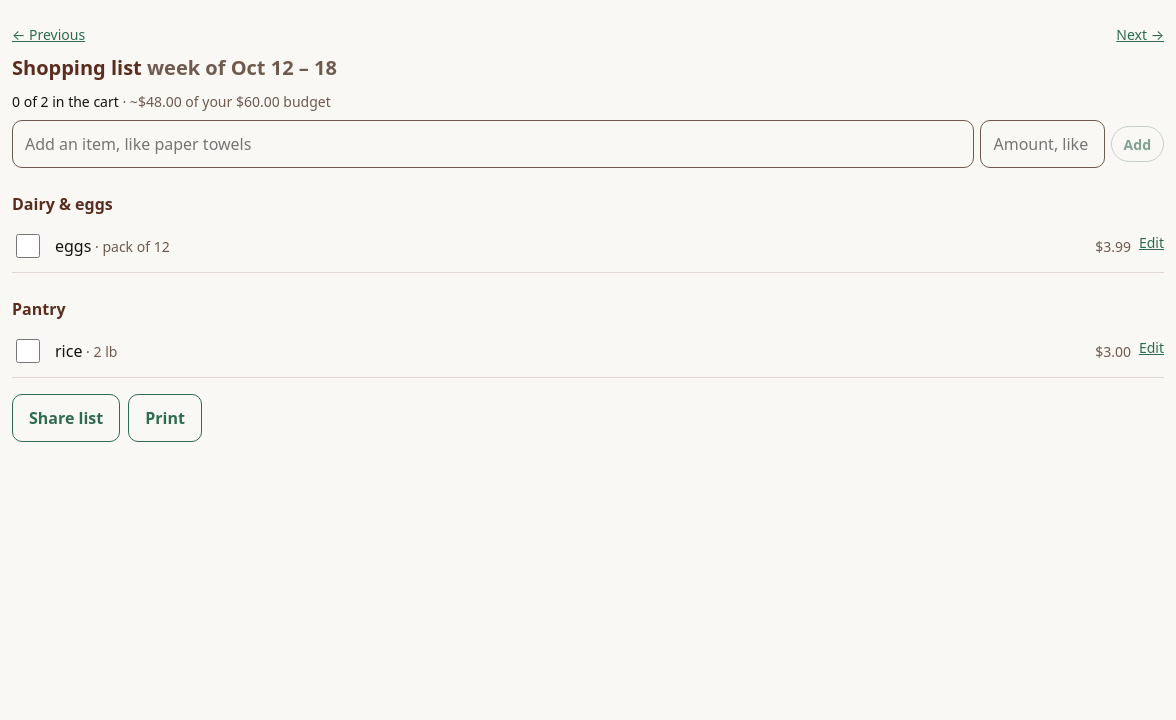
Test: ListPage › adds a place of the user’s own to buy something at
This screenshot has width=1176, height=720.
Check: the list named "Dairy & eggs" is shown, box [12,220,1164,273]
Click the button with aria-label "Edit eggs" at (1151, 242), box [1139,220,1164,264]
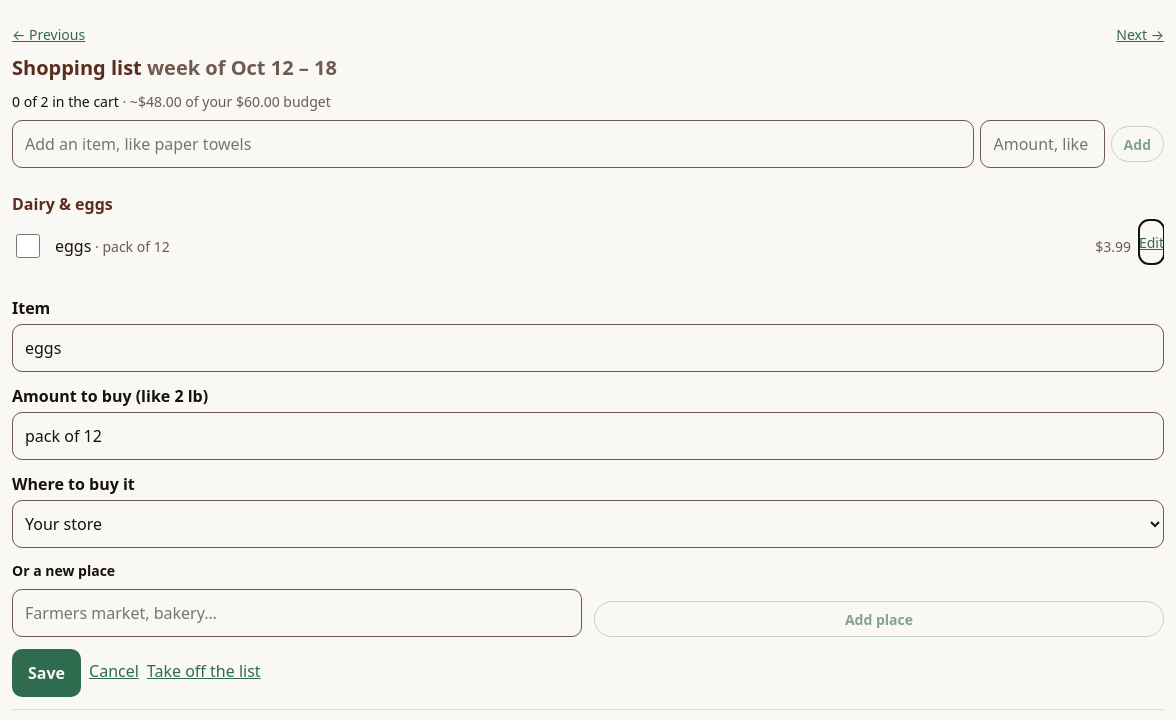
Type "Hickory Nut Gap" into the field labelled "Or a new place" at (297, 613), box [12,589,582,637]
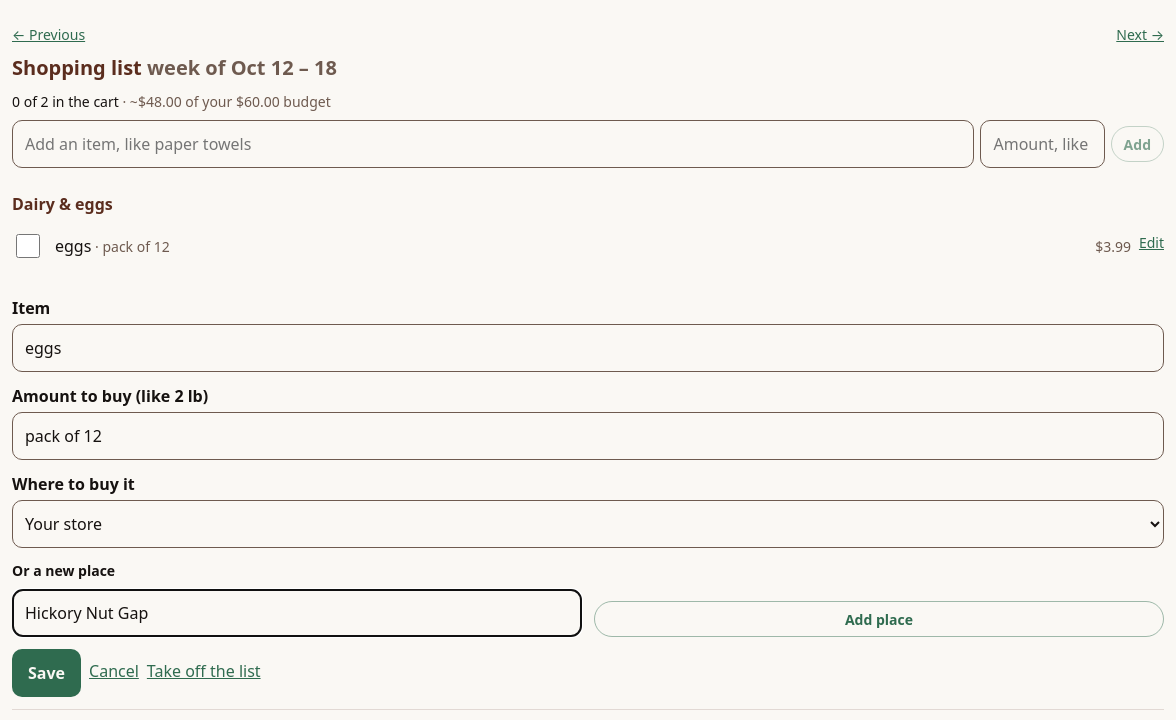
Click the button "Add place" at (879, 619), box [594,601,1164,637]
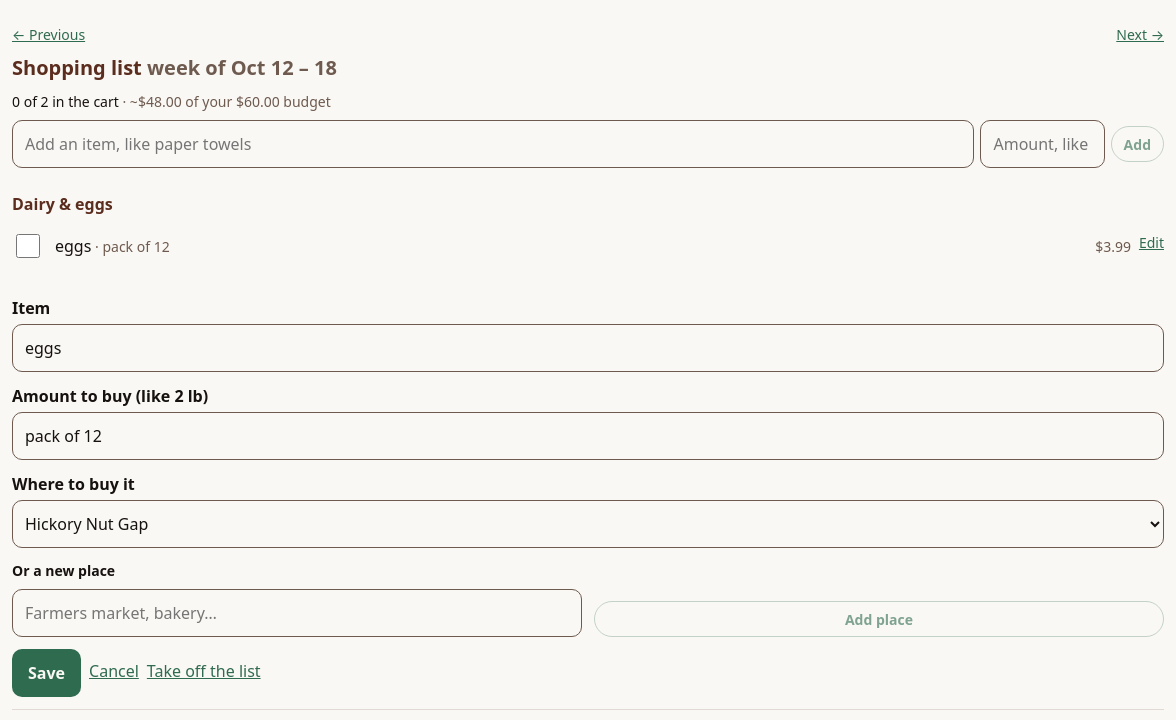
Check: the dropdown labelled "Where to buy it" shows "Hickory Nut Gap", box [12,500,1164,548]
